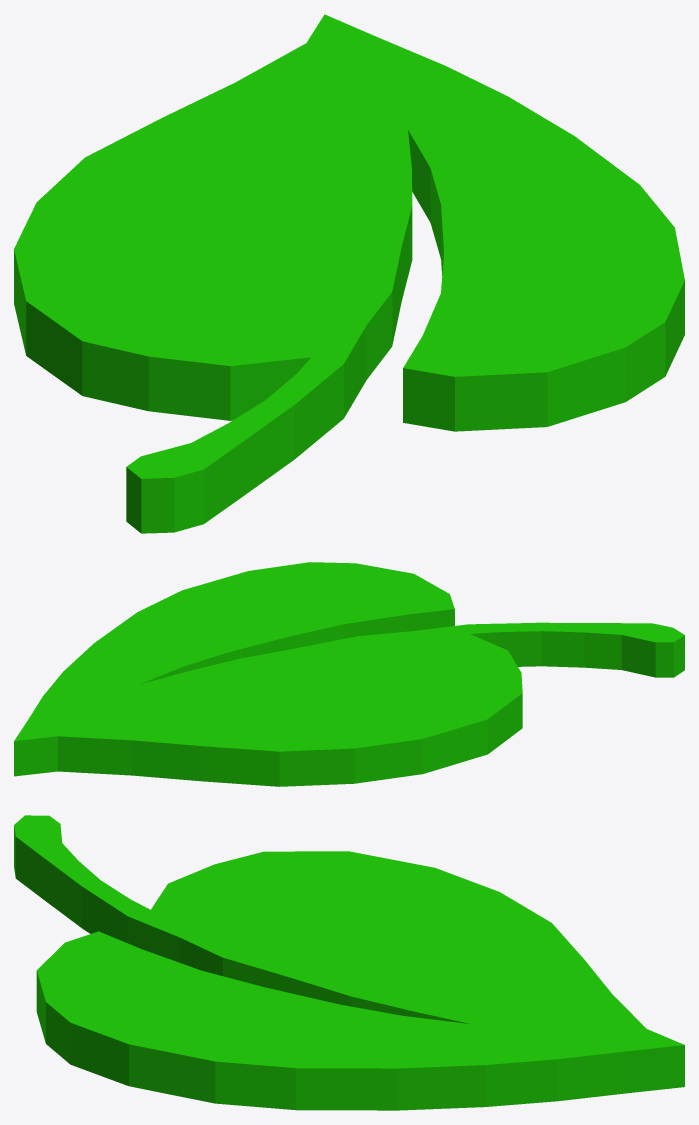
The model's file is leafsymbol.fbx.
The picture shows the model from 3 angles, top to bottom: view 1: azimuth 30°, elevation 25°; view 2: azimuth 150°, elevation 25°; view 3: azimuth 270°, elevation 25°; orthographic projection. The views are drawn at different scales.
Parts seen in each view (by area): view 1: Cube; view 2: Cube; view 3: Cube.
Boxes of the visible parts, x1,y1,x2,y2 form: Cube: [14, 14, 684, 533]; Cube: [14, 562, 684, 786]; Cube: [14, 815, 684, 1110].
Size of the model in its own units: 431 by 33.37 by 483.
